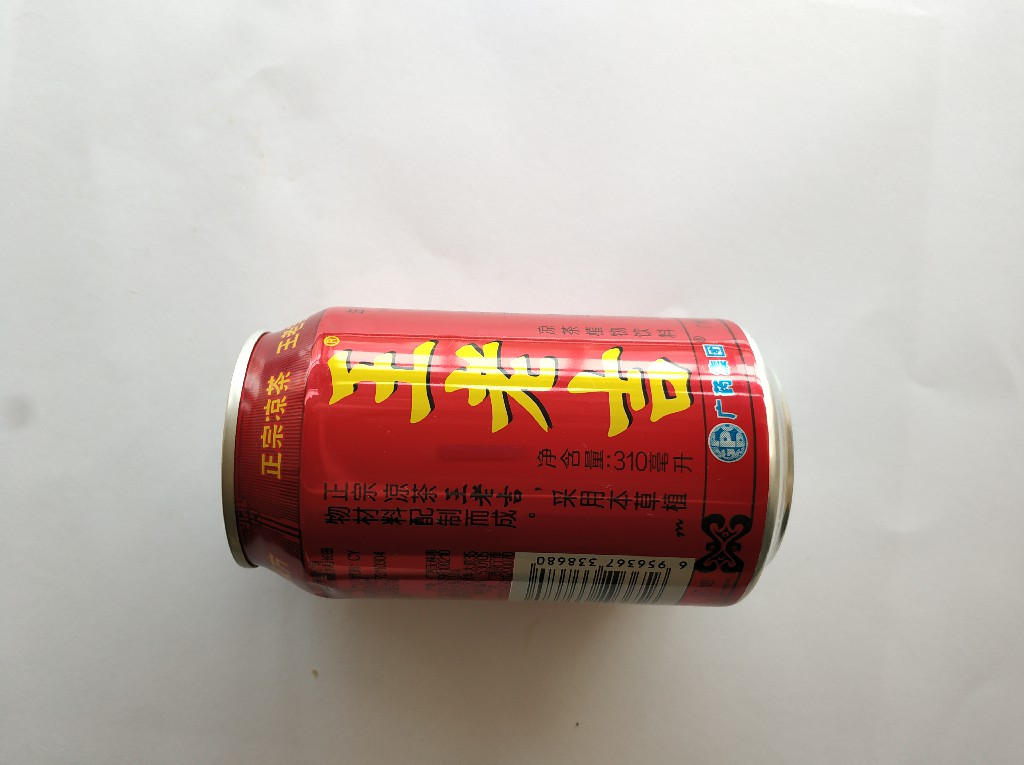can: (218, 298, 800, 611)
